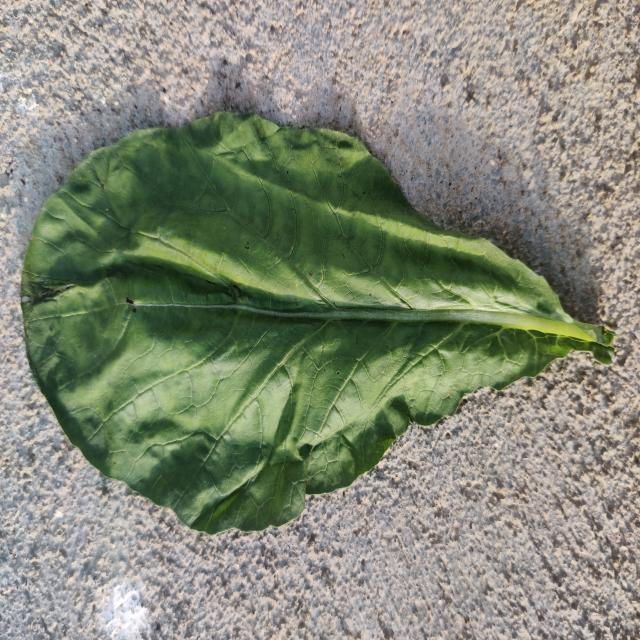raddish: (21, 113, 614, 533)
